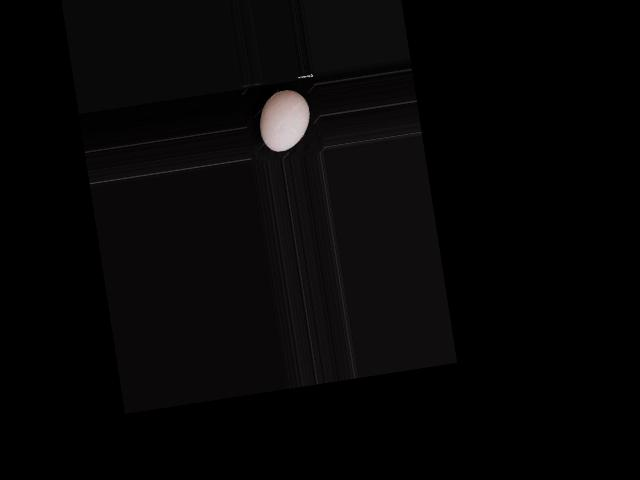egg: (254, 86, 314, 153)
